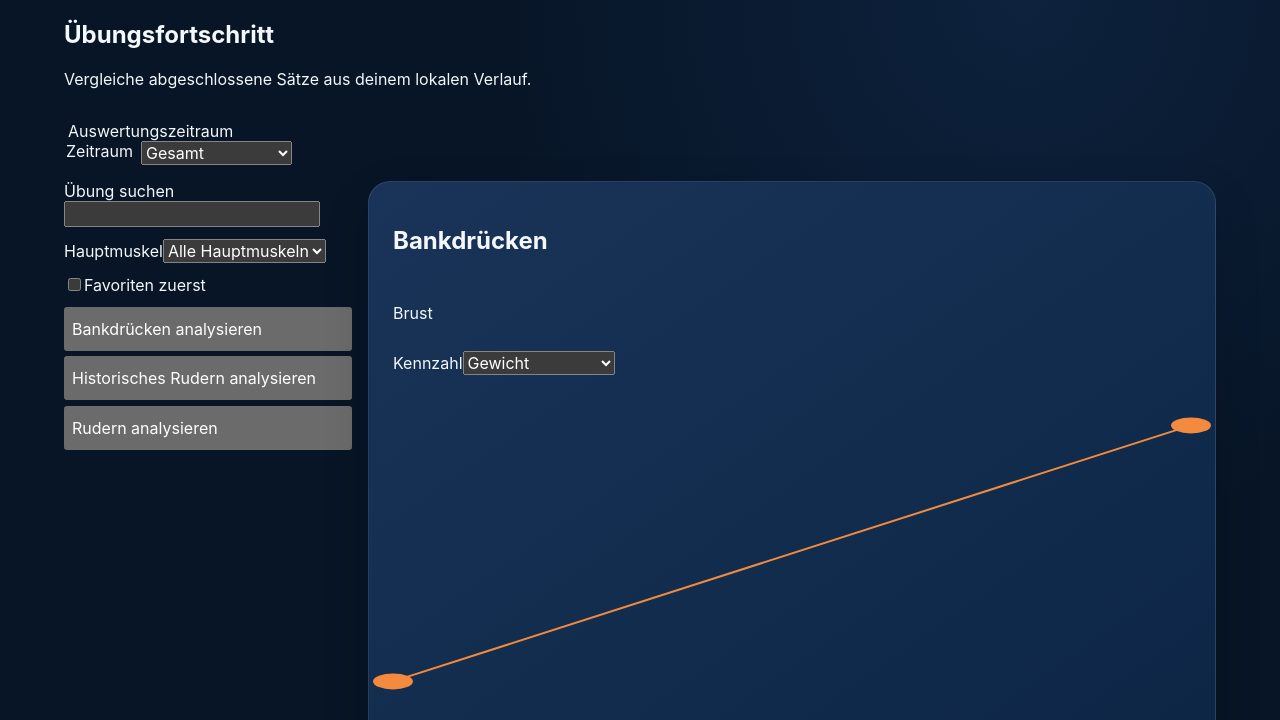
Test: ExerciseAnalyticsPage › inherits the period, persists metric switches and opens complete point details
Expected: the picture named "Gewichtsverlauf Bankdrücken" is shown, [393,387,1191,707]
Step 1. Select "Volumen" in the dropdown labelled "Kennzahl" → (538, 363), box [462,351,614,375]
(page scrolled)
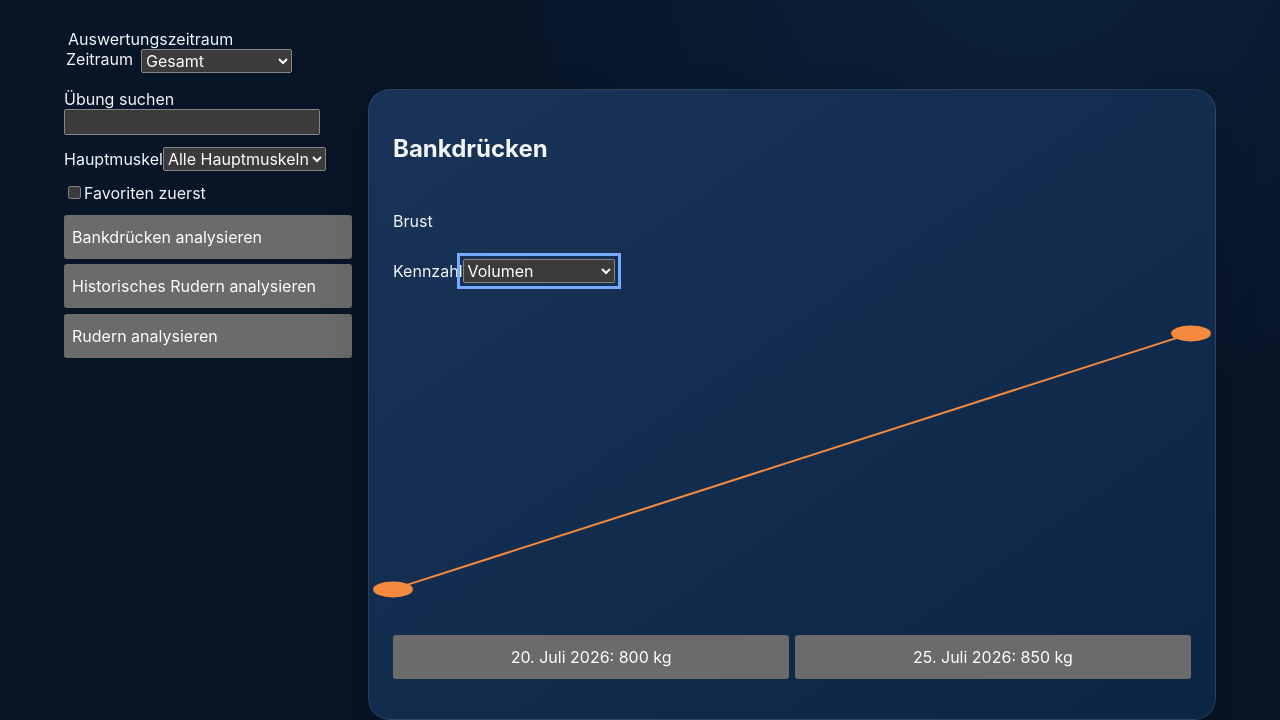
Expected: the picture named "Volumenverlauf Bankdrücken" is shown, [393,295,1191,615]
Step 2. Click the button "25. Juli 2026: 850 kg" → click(993, 657), box [795,635,1191,679]
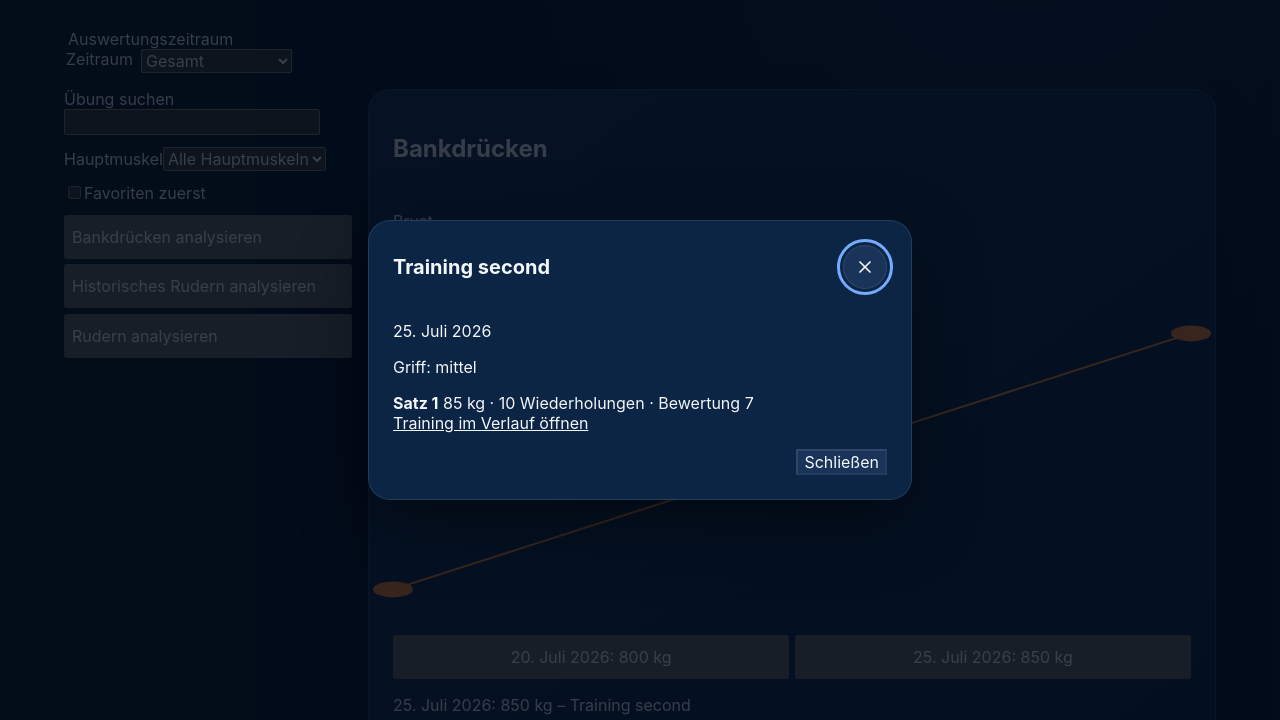
Now the text "85 kg" is shown, box [443,393,485,413]
Now the text "10 Wiederholungen" is shown, box [499,393,645,413]
Now the text "Bewertung 7" is shown, box [658,393,754,413]
